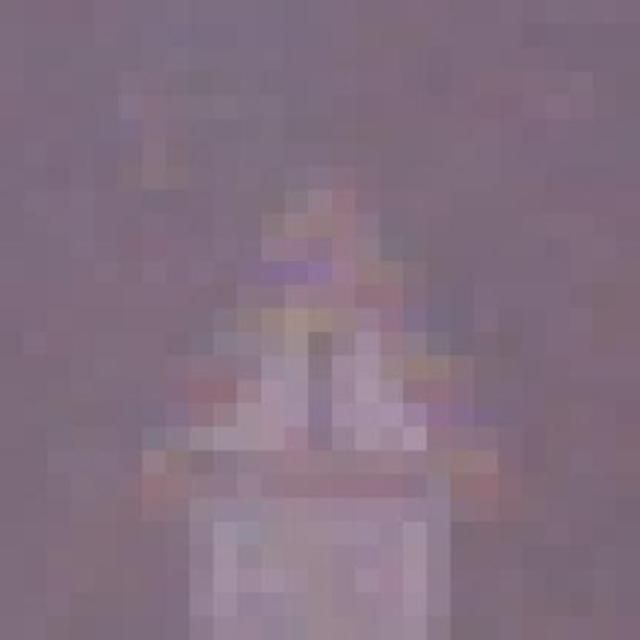Attention Please-: (95, 166, 522, 545)
